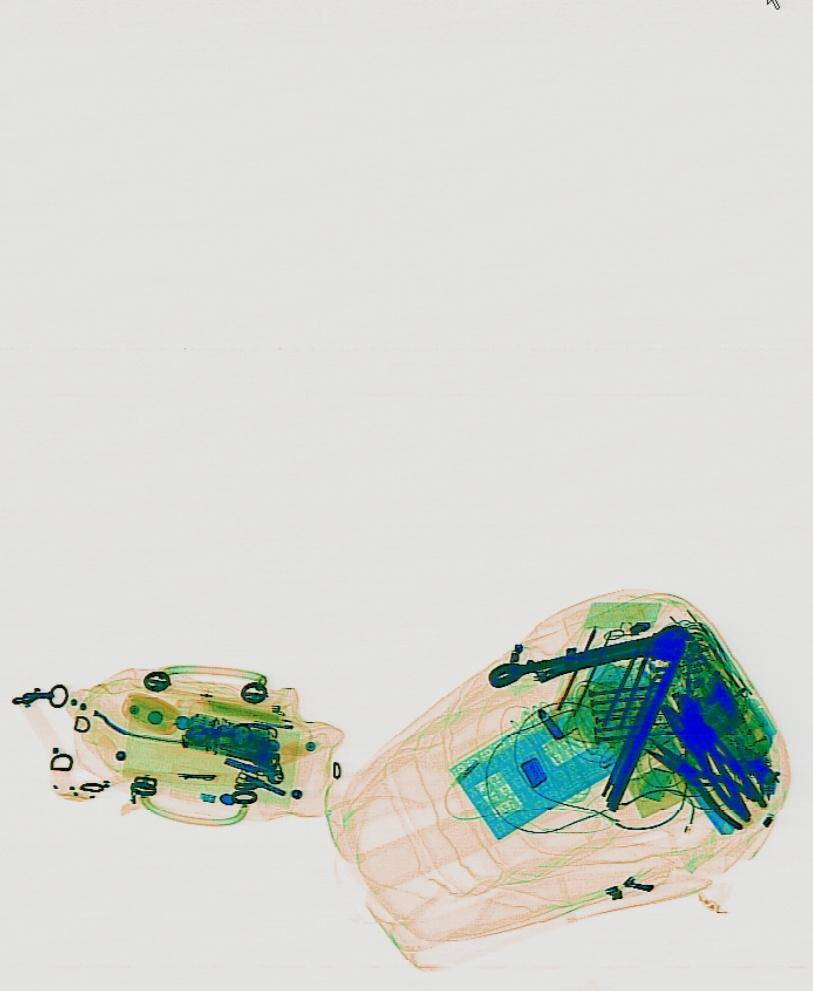Pliers: (651, 690, 768, 823), (634, 721, 763, 834)
Wrench: (485, 619, 694, 698)
